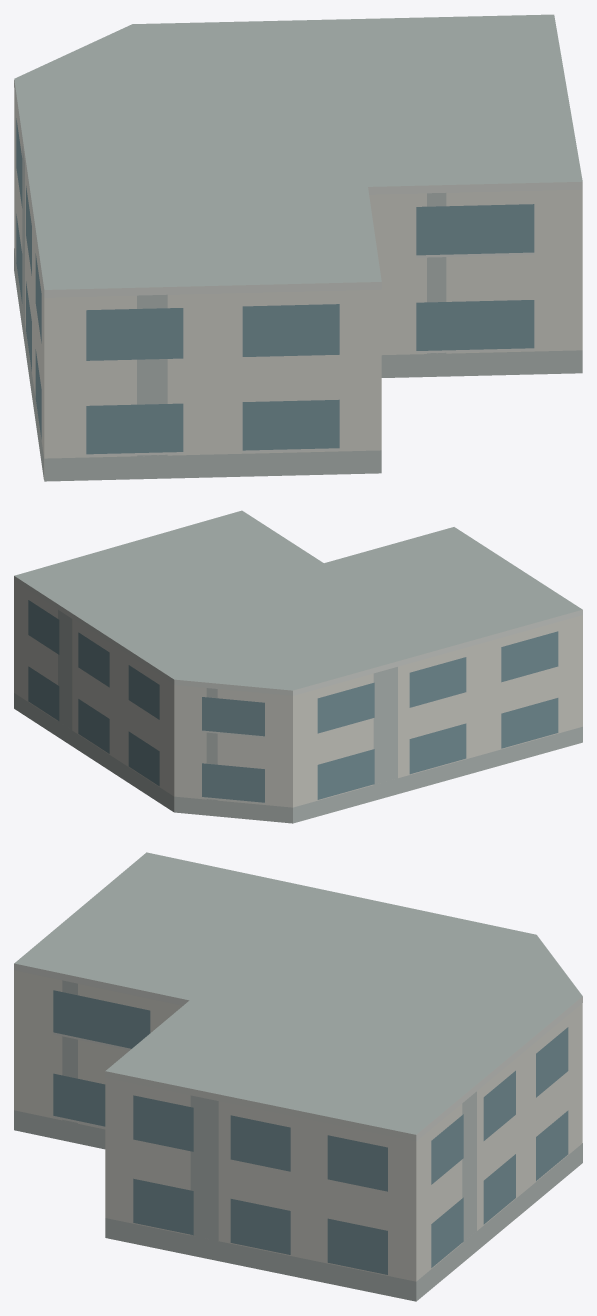
The model's file is residential-dc93b05f-5f50-48f4-b6fb-8c857749df82.glb.
3 views of the same model, one above another, from view 1: azimuth 30°, elevation 25°; view 2: azimuth 150°, elevation 25°; view 3: azimuth 270°, elevation 25° (orthographic). The views are drawn at different scales.
Visible parts, largest first — view 1: residential-dc93b05f-5f50-48f4-b6fb-8c857749df82.tmp; view 2: residential-dc93b05f-5f50-48f4-b6fb-8c857749df82.tmp; view 3: residential-dc93b05f-5f50-48f4-b6fb-8c857749df82.tmp.
Part boxes in pixels (<box>): residential-dc93b05f-5f50-48f4-b6fb-8c857749df82.tmp: <box>14,14,582,481</box>; residential-dc93b05f-5f50-48f4-b6fb-8c857749df82.tmp: <box>14,510,582,823</box>; residential-dc93b05f-5f50-48f4-b6fb-8c857749df82.tmp: <box>14,852,582,1301</box>.
Size of the model in its own units: 21.81 by 6 by 18.56.
